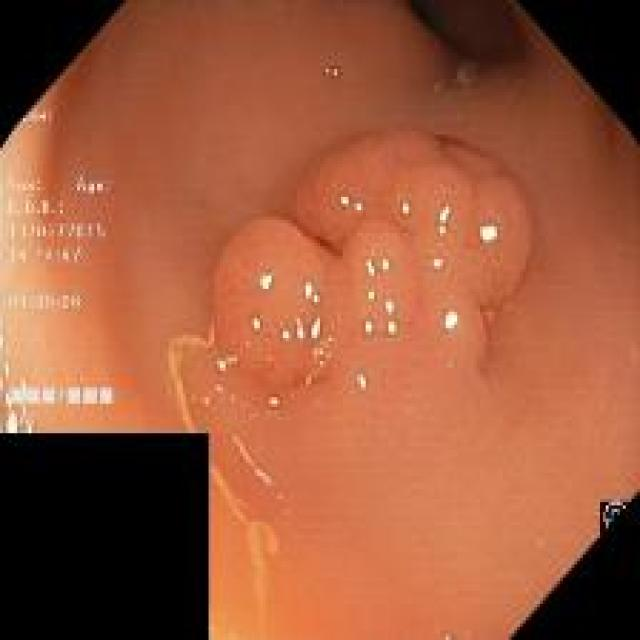Polyps: (215, 131, 531, 394)
